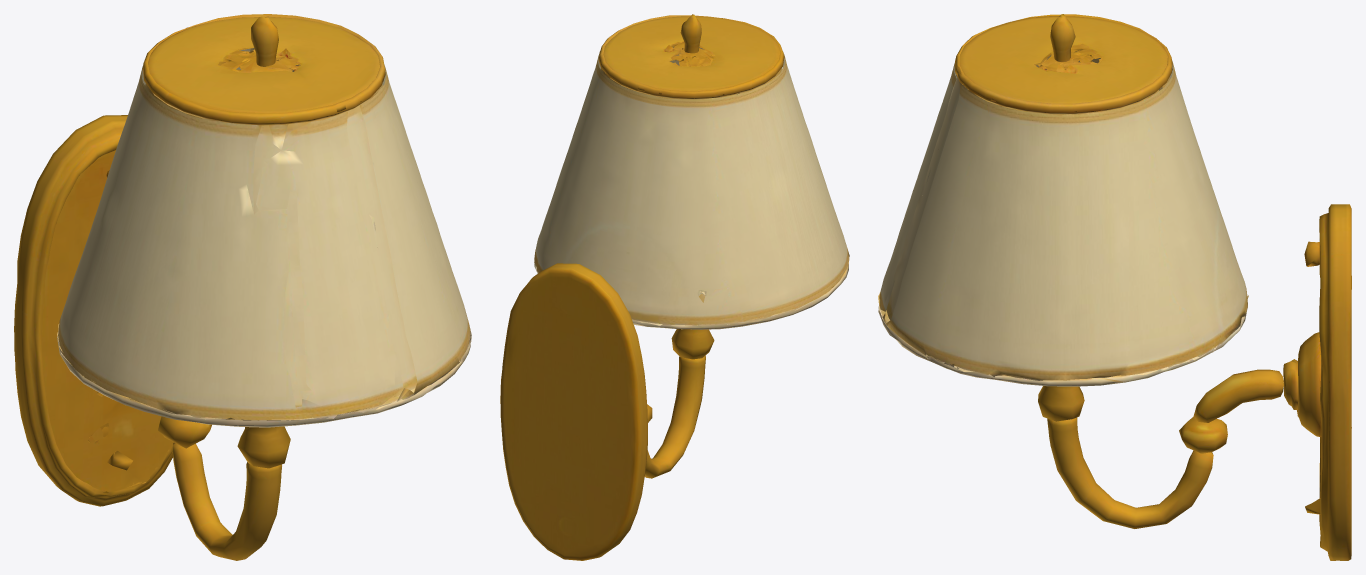
File: wall-sconce.glb
The picture shows the model from 3 angles, left to right: view 1: azimuth 30°, elevation 25°; view 2: azimuth 150°, elevation 25°; view 3: azimuth 270°, elevation 25°; orthographic projection. The views are drawn at different scales.
Parts seen in each view (by area): view 1: SM_BT_WallSconce; view 2: SM_BT_WallSconce; view 3: SM_BT_WallSconce.
Boxes of the visible parts, box(x1,y1,x2,y2) form: SM_BT_WallSconce: box(14, 14, 471, 560); SM_BT_WallSconce: box(500, 14, 849, 560); SM_BT_WallSconce: box(878, 14, 1351, 560).
Size of the model in its own units: 0.2514 by 0.4 by 0.3188.
1 material, 1 textured.
